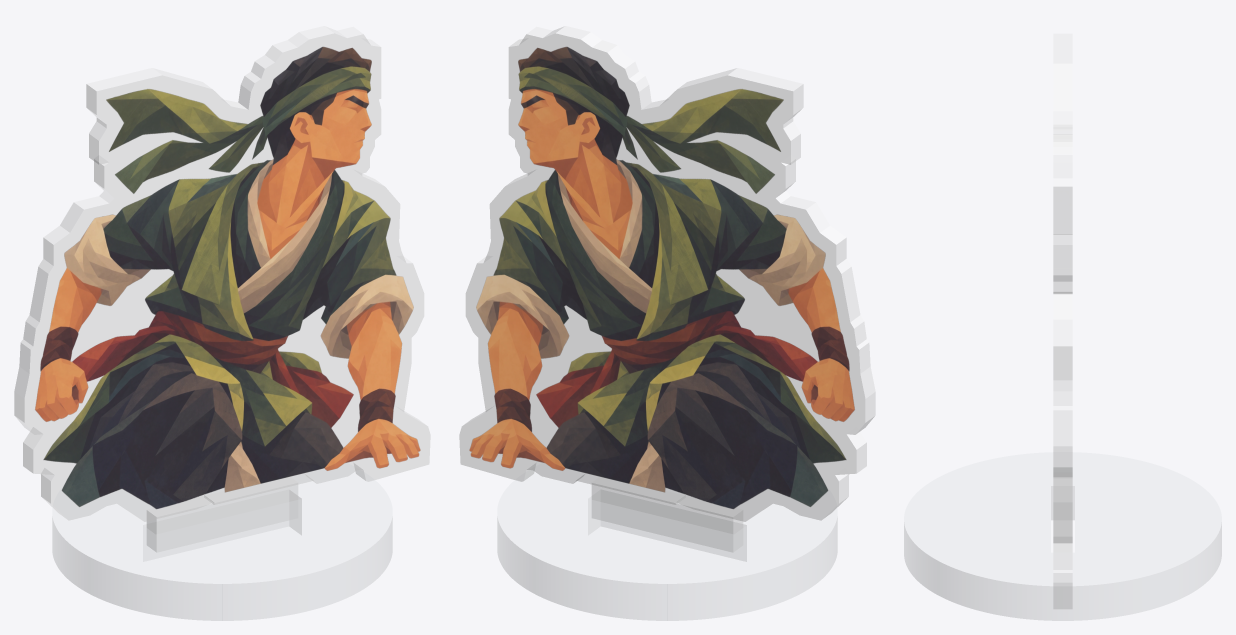
The model's file is huong-dao-luc-CfoRsmnP.glb.
3 views of the same model, side by side, from view 1: azimuth 30°, elevation 25°; view 2: azimuth 150°, elevation 25°; view 3: azimuth 270°, elevation 25° (orthographic). The views are drawn at different scales.
Parts seen in each view (by area): view 1: ArtworkFront, AcrylicSilhouette, RoundBaseWithSlot, InsertTab; view 2: ArtworkBack, AcrylicSilhouette, RoundBaseWithSlot, InsertTab; view 3: RoundBaseWithSlot, AcrylicSilhouette, InsertTab.
Boxes of the visible parts, x1,y1,x2,y2 form: ArtworkFront: (35, 46, 420, 509); AcrylicSilhouette: (14, 26, 430, 521); RoundBaseWithSlot: (52, 463, 392, 620); InsertTab: (147, 477, 297, 552); ArtworkBack: (469, 46, 854, 509); AcrylicSilhouette: (459, 26, 875, 521); RoundBaseWithSlot: (497, 463, 837, 620); InsertTab: (592, 477, 742, 552); RoundBaseWithSlot: (904, 452, 1221, 620); AcrylicSilhouette: (1053, 34, 1072, 608); InsertTab: (1053, 472, 1072, 569).
Size of the model in its own units: 34.43 by 39.95 by 25.
Materials: 5 (2 with a texture image).
